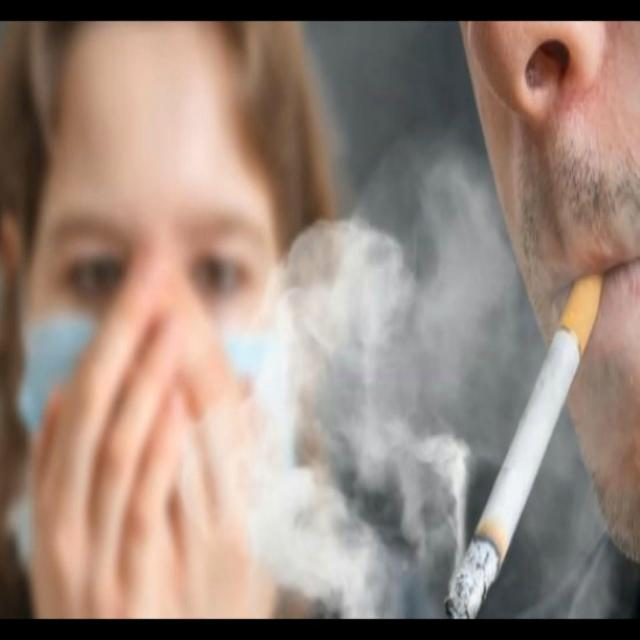smoke: (445, 189, 640, 616)
